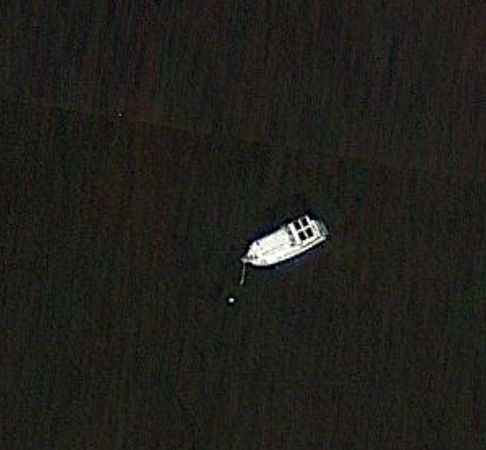boat: (241, 213, 329, 269)
